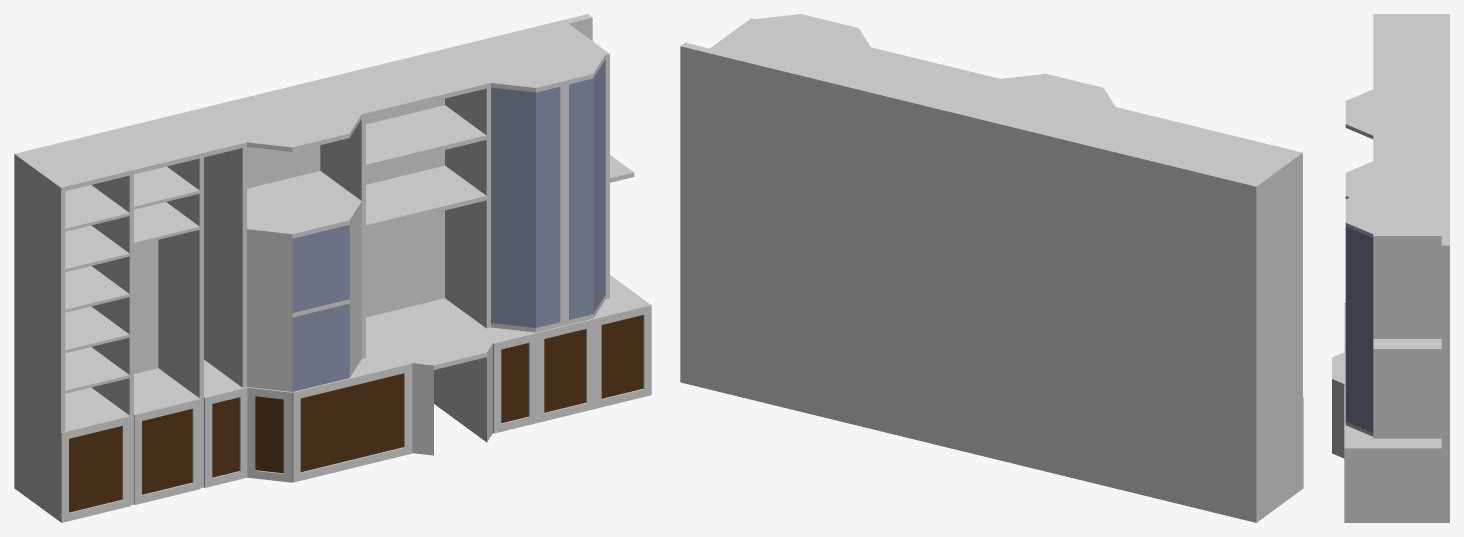
Rendered from Armario3.fbx.
3 renders of one model, left to right at view 1: azimuth 30°, elevation 25°; view 2: azimuth 150°, elevation 25°; view 3: azimuth 270°, elevation 25°, orthographic. The views are drawn at different scales.
Visible parts, largest first — view 1: Model; view 2: Model; view 3: Model.
Part boxes in pixels (x1,y1,x2,y2): Model: [14, 14, 651, 522]; Model: [680, 14, 1303, 522]; Model: [1332, 14, 1449, 522].
Size of the model in its own units: 4 by 2.23 by 0.86.
